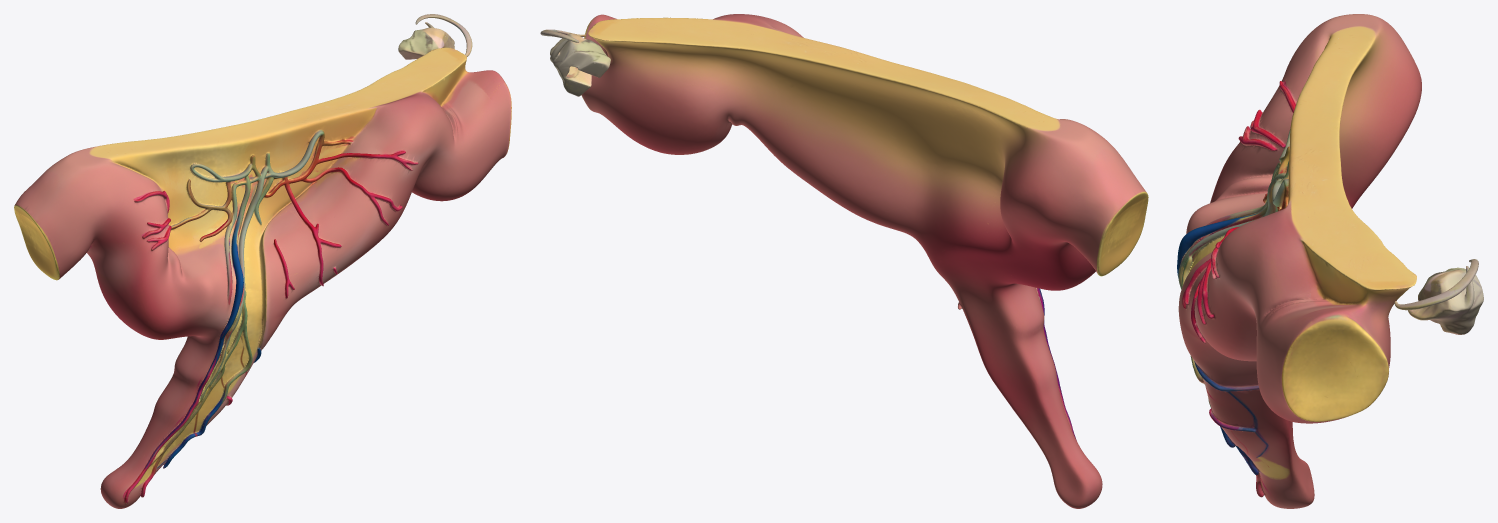
Rendered from diverticulodemeckel-v1.glb.
3 renders of one model, left to right at view 1: azimuth 30°, elevation 25°; view 2: azimuth 150°, elevation 25°; view 3: azimuth 270°, elevation 25°, orthographic. The views are drawn at different scales.
Size of the model in its own units: 1.9 by 1.36 by 0.7521.
1 material, 1 textured.
